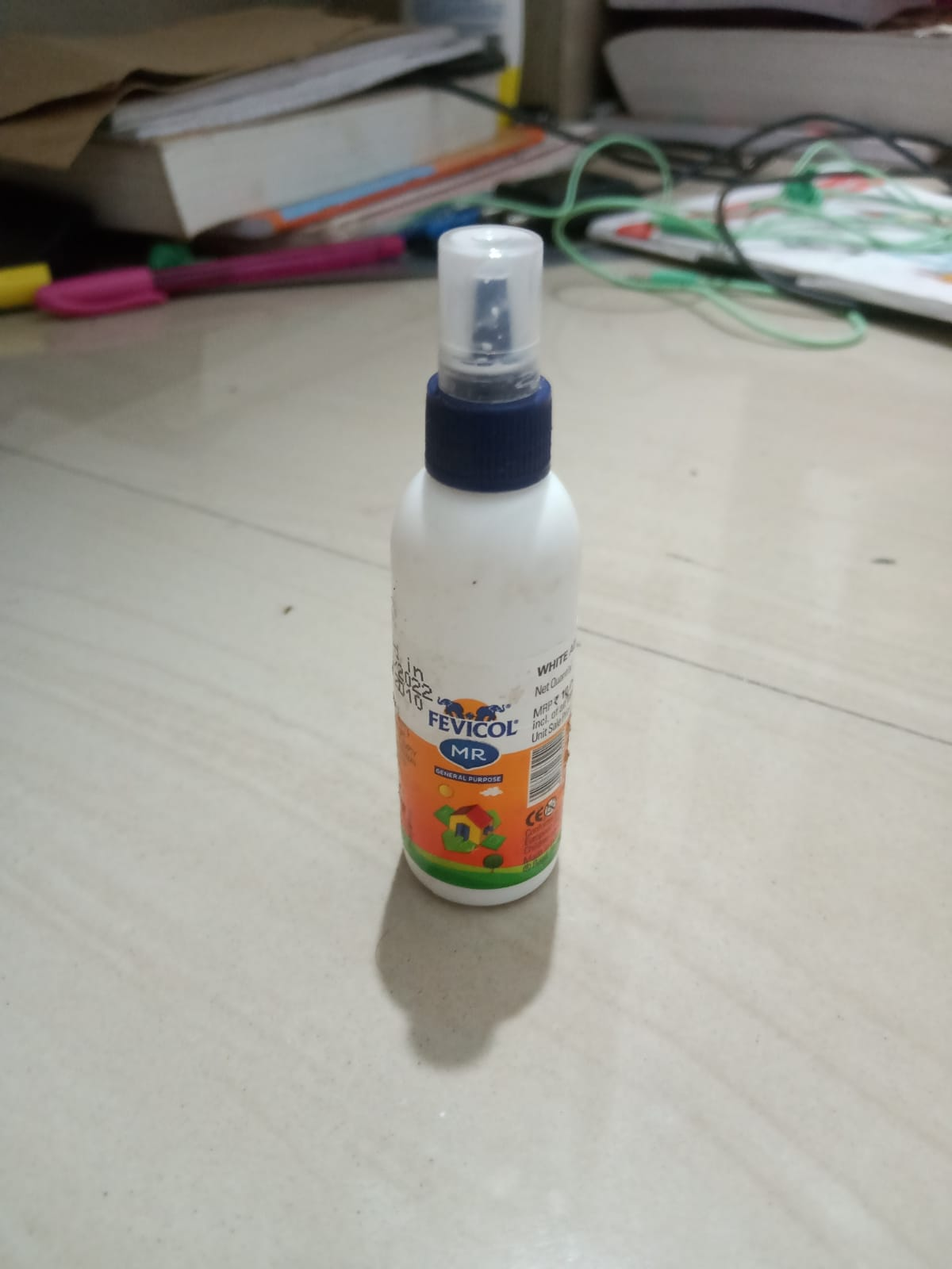plastic: (334, 207, 621, 942)
